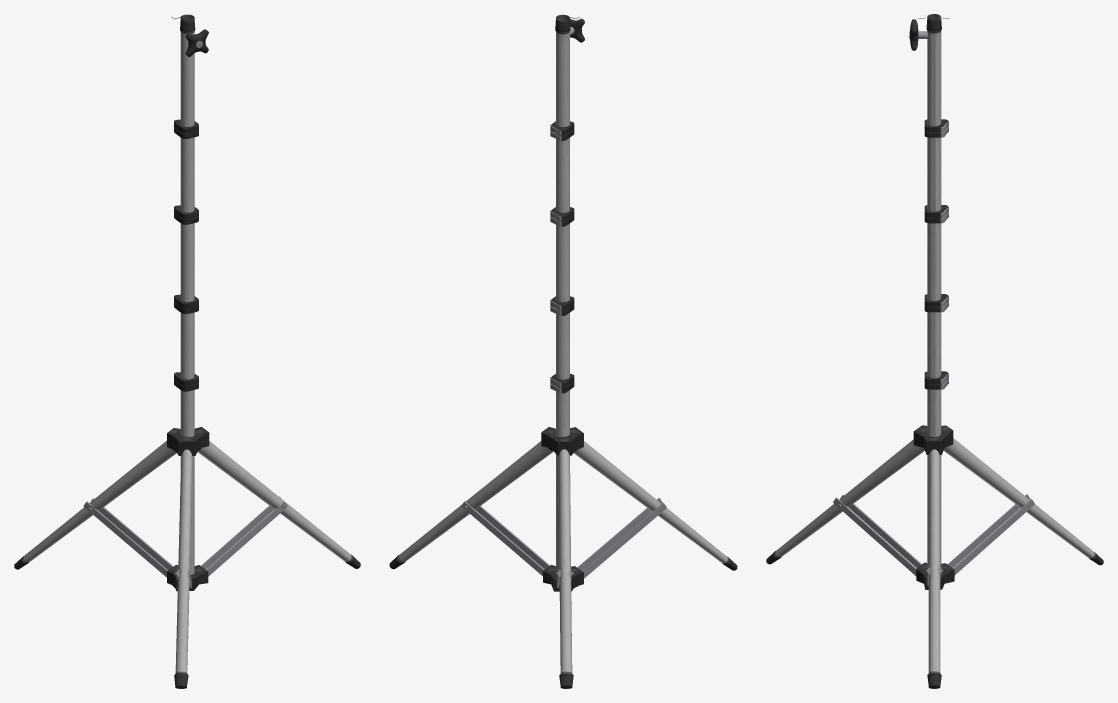
File: stand.glb
3 renders of one model, left to right at view 1: azimuth 30°, elevation 25°; view 2: azimuth 150°, elevation 25°; view 3: azimuth 270°, elevation 25°, orthographic.
Size of the model in its own units: 0.4686 by 0.9991 by 0.5174.
Materials: 1 (1 with a texture image).
